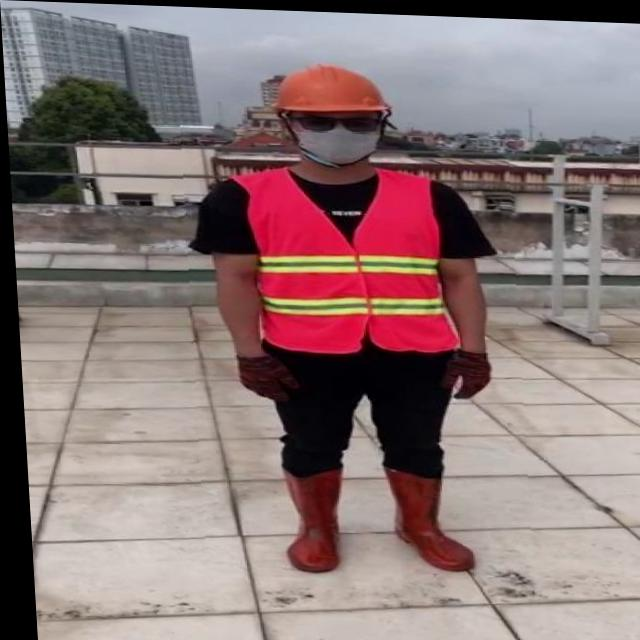Gloves: (231, 350, 296, 400), (433, 344, 488, 397)
Helmet: (270, 59, 391, 117)
Safety-Boot: (377, 461, 468, 568), (274, 460, 341, 570)
Safety-Vest: (223, 160, 457, 355)
